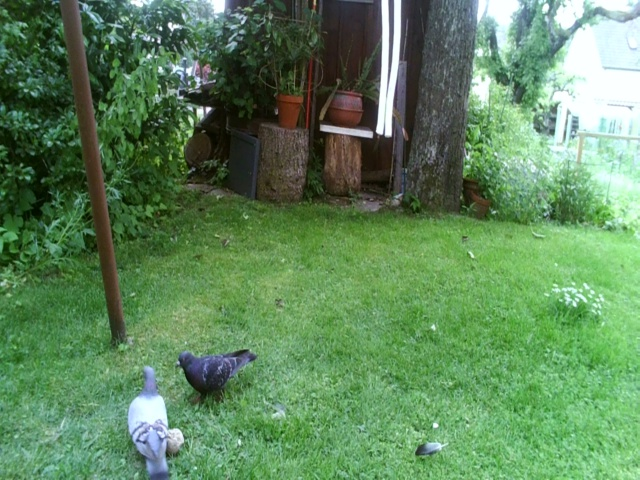Pigeon: (123, 363, 172, 480), (175, 343, 272, 402)
